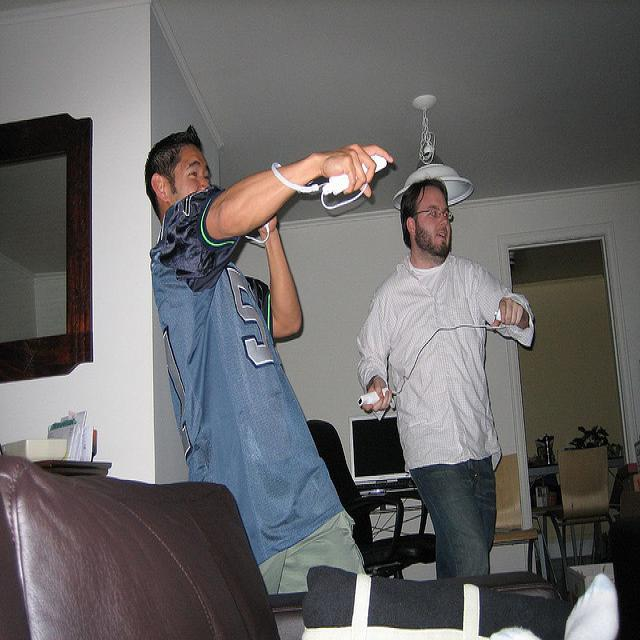chair: (3, 453, 288, 640), (303, 421, 440, 584), (550, 449, 609, 563), (489, 450, 538, 571)
dining table: (528, 453, 625, 476)
